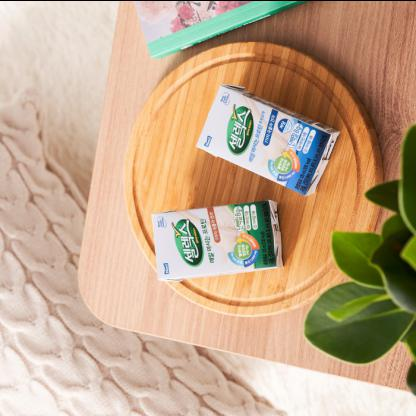tetra: (181, 67, 350, 196), (136, 190, 290, 301)
